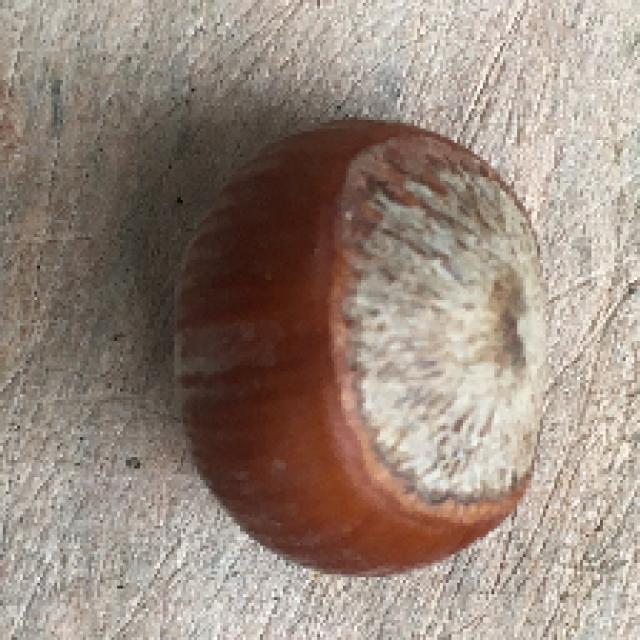QualityHazelnut: (173, 115, 551, 583)
